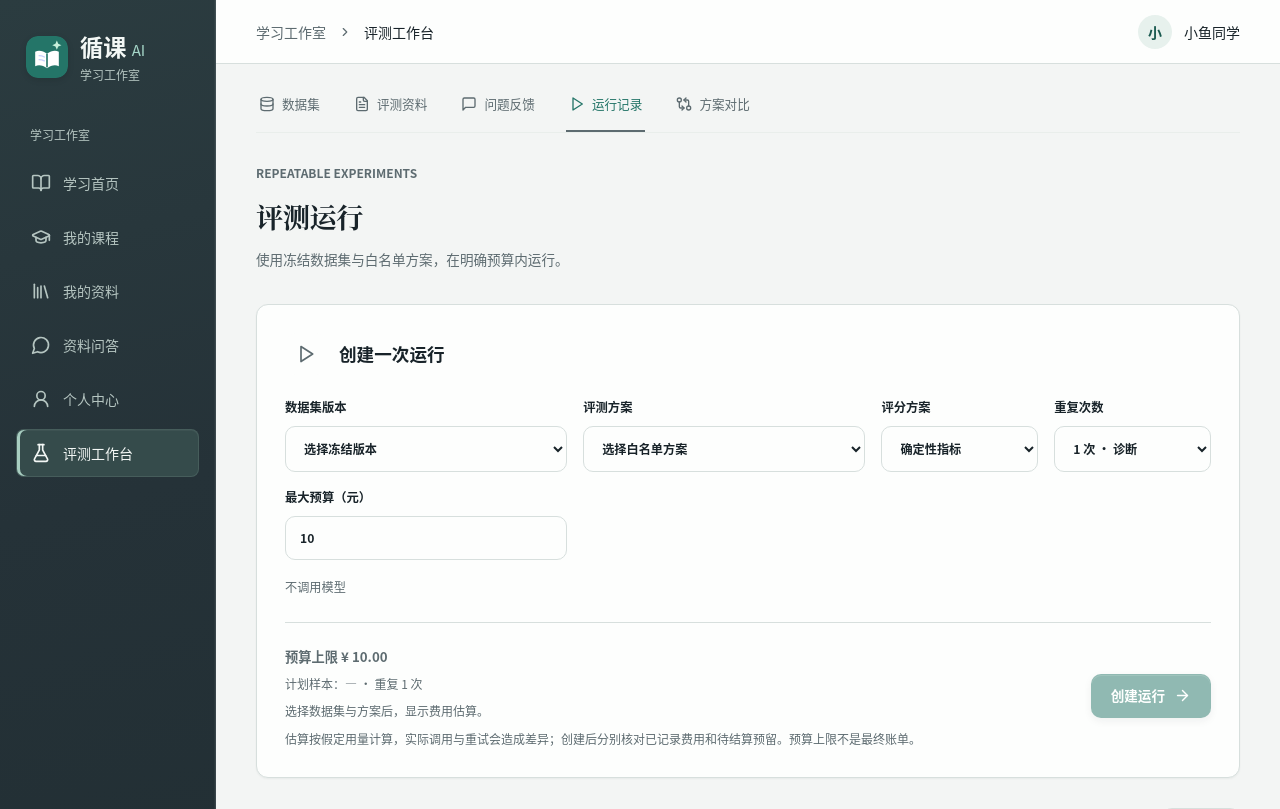
Test case: evaluation workbench › creates a bounded run with a server-listed pipeline and scoring profile
Check: the heading "评测运行" is shown, box [256,197,363,236]
Select "集合 smoke · v1" in the dropdown labelled "数据集版本" at (426, 449), box [285,426,567,472]
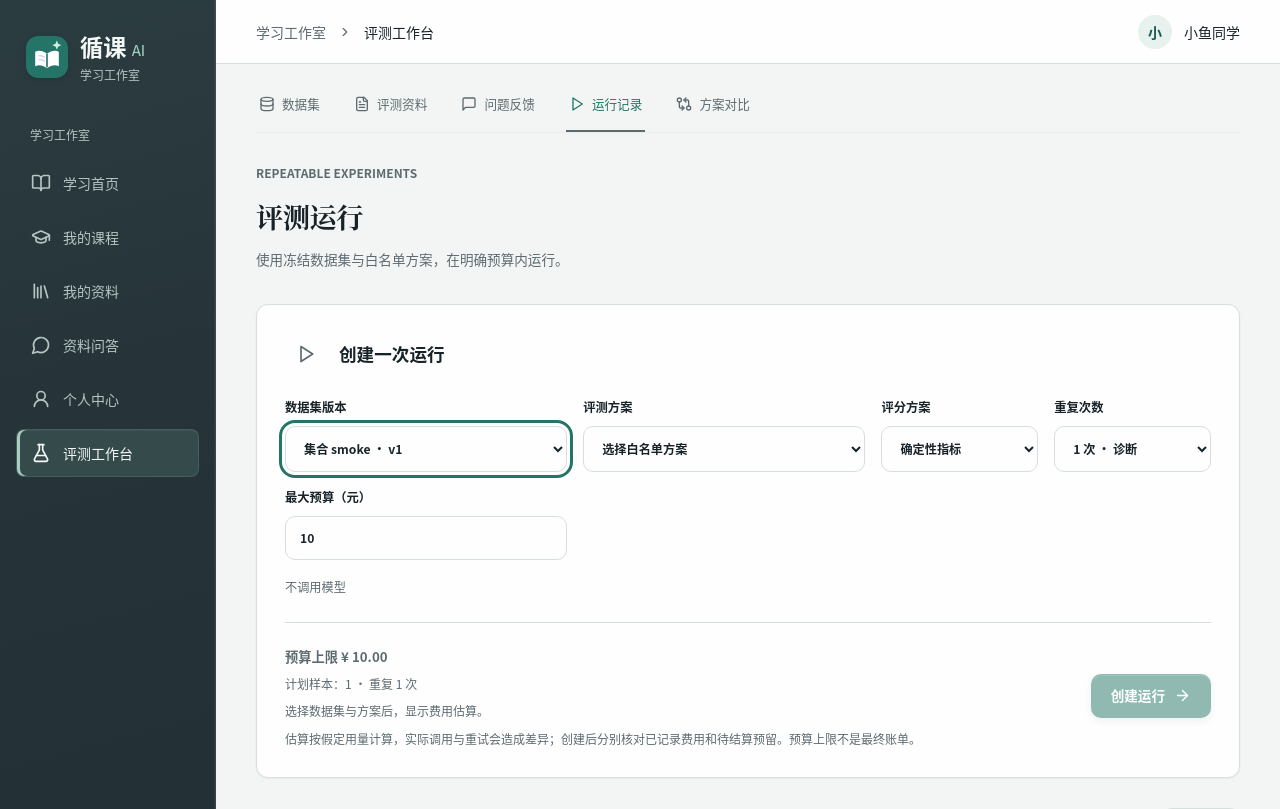
Select "纯检索基线" in the dropdown labelled "评测方案" at (724, 449), box [583,426,865,472]
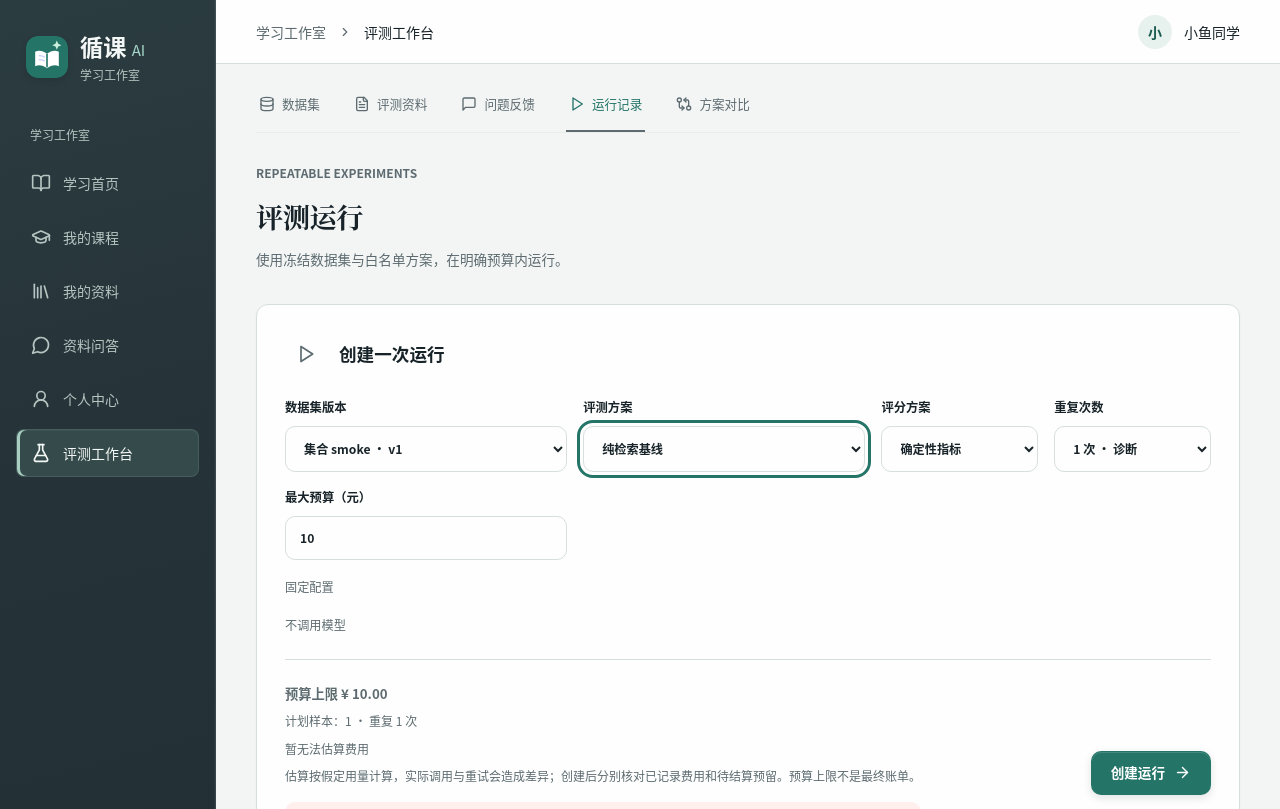
Select "Ragas 事实支持度" in the dropdown labelled "评分方案" at (960, 449), box [881,426,1038,472]
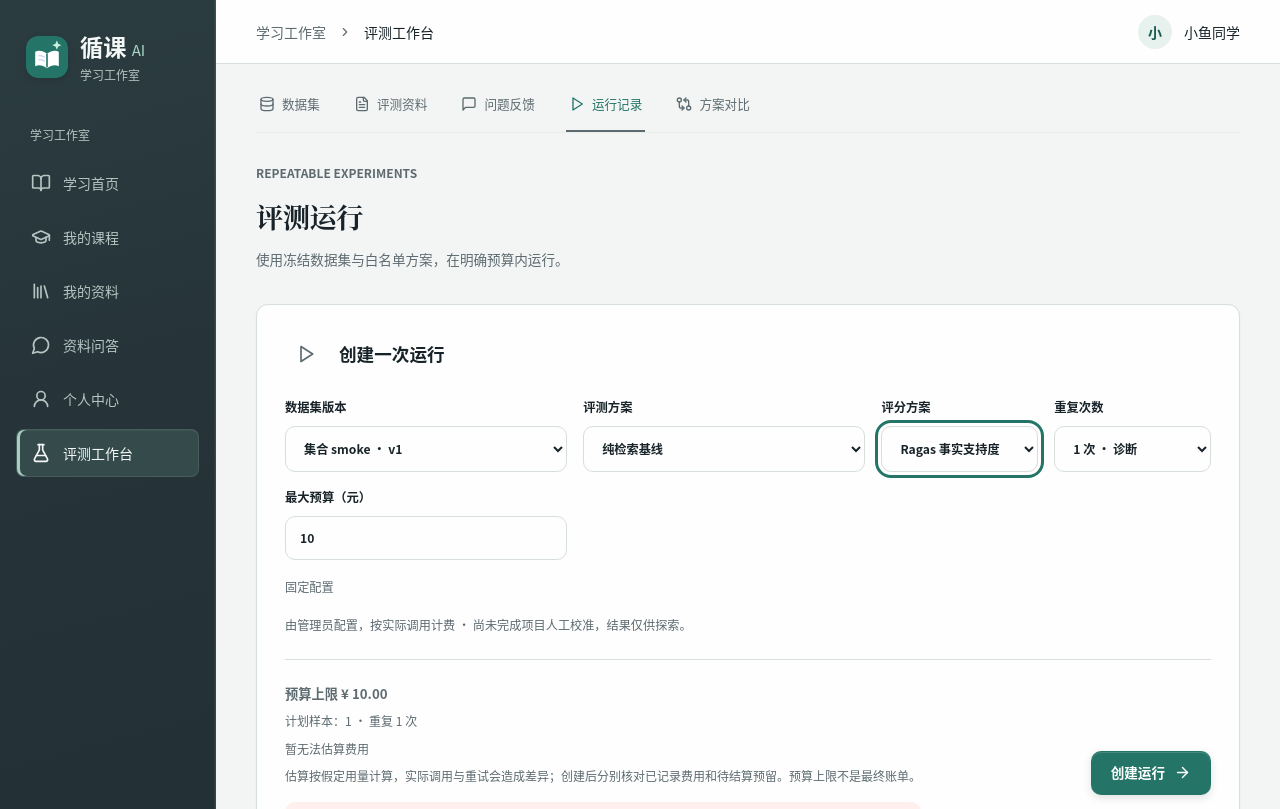
Click the button "创建运行" at (1151, 773), box [1091,751,1211,795]
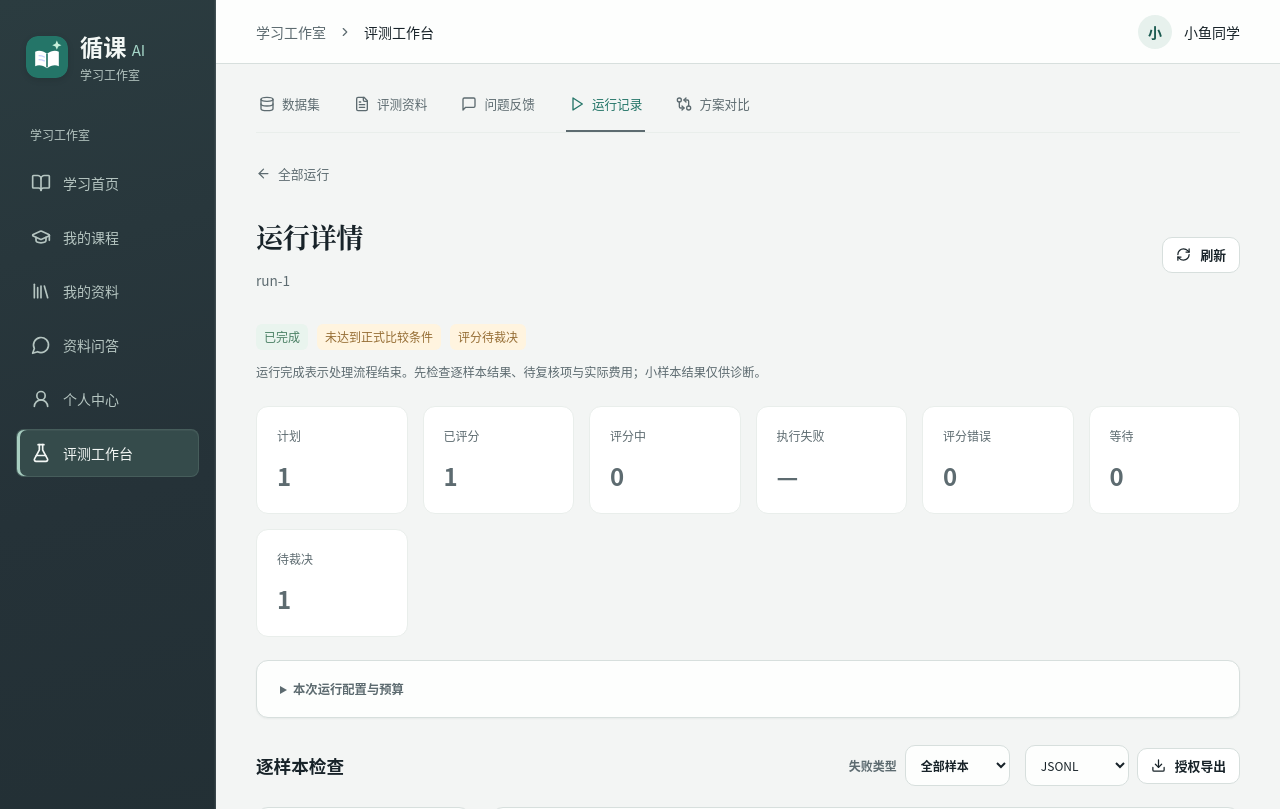
Check: the heading "运行详情" is shown, box [256,217,363,258]
